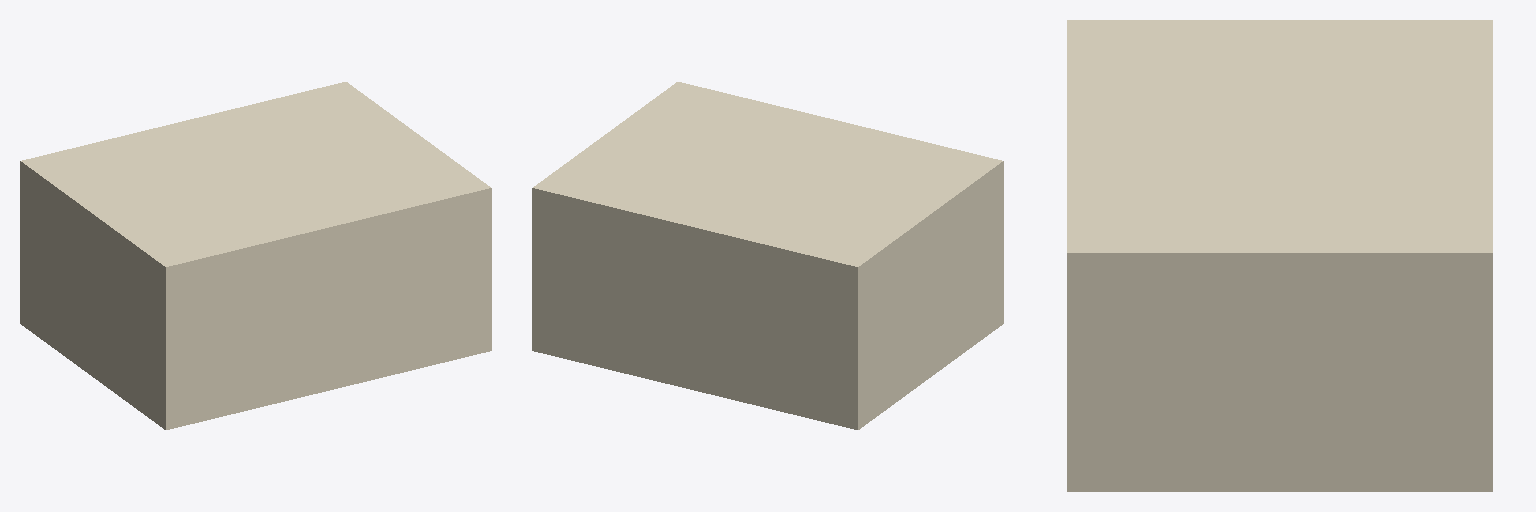
robot.urdf — nova_environment_object_0307:
<?xml version="1.0" encoding="utf-8"?>
<!-- Nova movable environment body for the bundled PyBullet launcher. SI metres/kg/radians. Loaded at its body origin; hinge/slider bodies use a fixed world_anchor base with one passive joint. Inertia is about COM. -->
<robot name="nova_environment_object_0307">
  <link name="body">
    <inertial>
      <origin xyz="0 0 0.0225" rpy="0 0 0" />
      <mass value="0.084" />
      <inertia ixx="7.42847778e-05" iyy="0.000139867" izz="0.000185801778" ixy="0" ixz="0" iyz="0" />
    </inertial>
    <visual>
      <origin xyz="0 0 0" rpy="0 0 0" />
      <geometry>
        <mesh filename="object_0307.obj" />
      </geometry>
      <material name="surface">
        <color rgba="0.91 0.88 0.8 1" />
      </material>
    </visual>
    <collision>
      <origin xyz="0 0 0" rpy="0 0 0" />
      <geometry>
        <mesh filename="object_0307_collision_00.obj" />
      </geometry>
    </collision>
  </link>
</robot>

--- Render facts (derived) ---
The picture shows the robot from 3 angles, left to right: view 1: azimuth 30°, elevation 25°; view 2: azimuth 150°, elevation 25°; view 3: azimuth 270°, elevation 25°; orthographic projection.
Model nova_environment_object_0307 with 1 links and 0 joints (none), rooted at body, posed all joints at 0.
Visible links, largest first — view 1: body; view 2: body; view 3: body.
Link boxes in pixels (<box>): body: <box>20,82,491,429</box>; body: <box>532,82,1003,429</box>; body: <box>1067,20,1492,491</box>.
Bounding box of the posed robot: 0.094 × 0.0727 × 0.045 m (x, y, z).
Meshes: 1 distinct files referenced, 1 mesh visuals loaded (1 OBJ).
